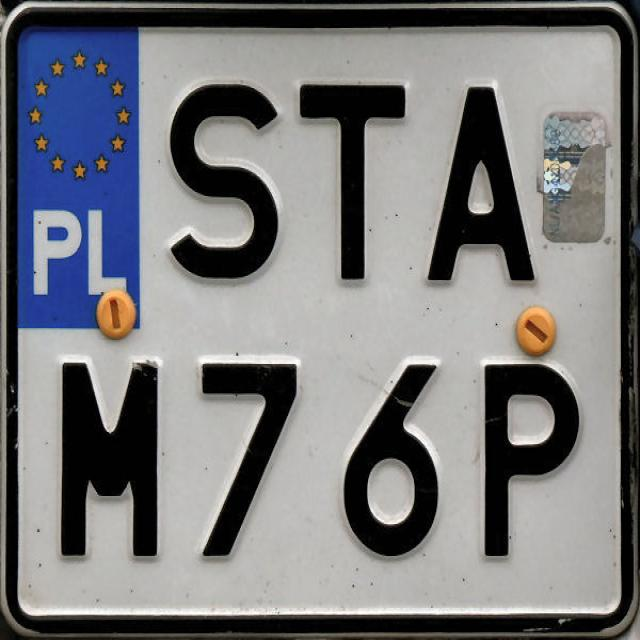pl_license_plate: (18, 28, 620, 609)
